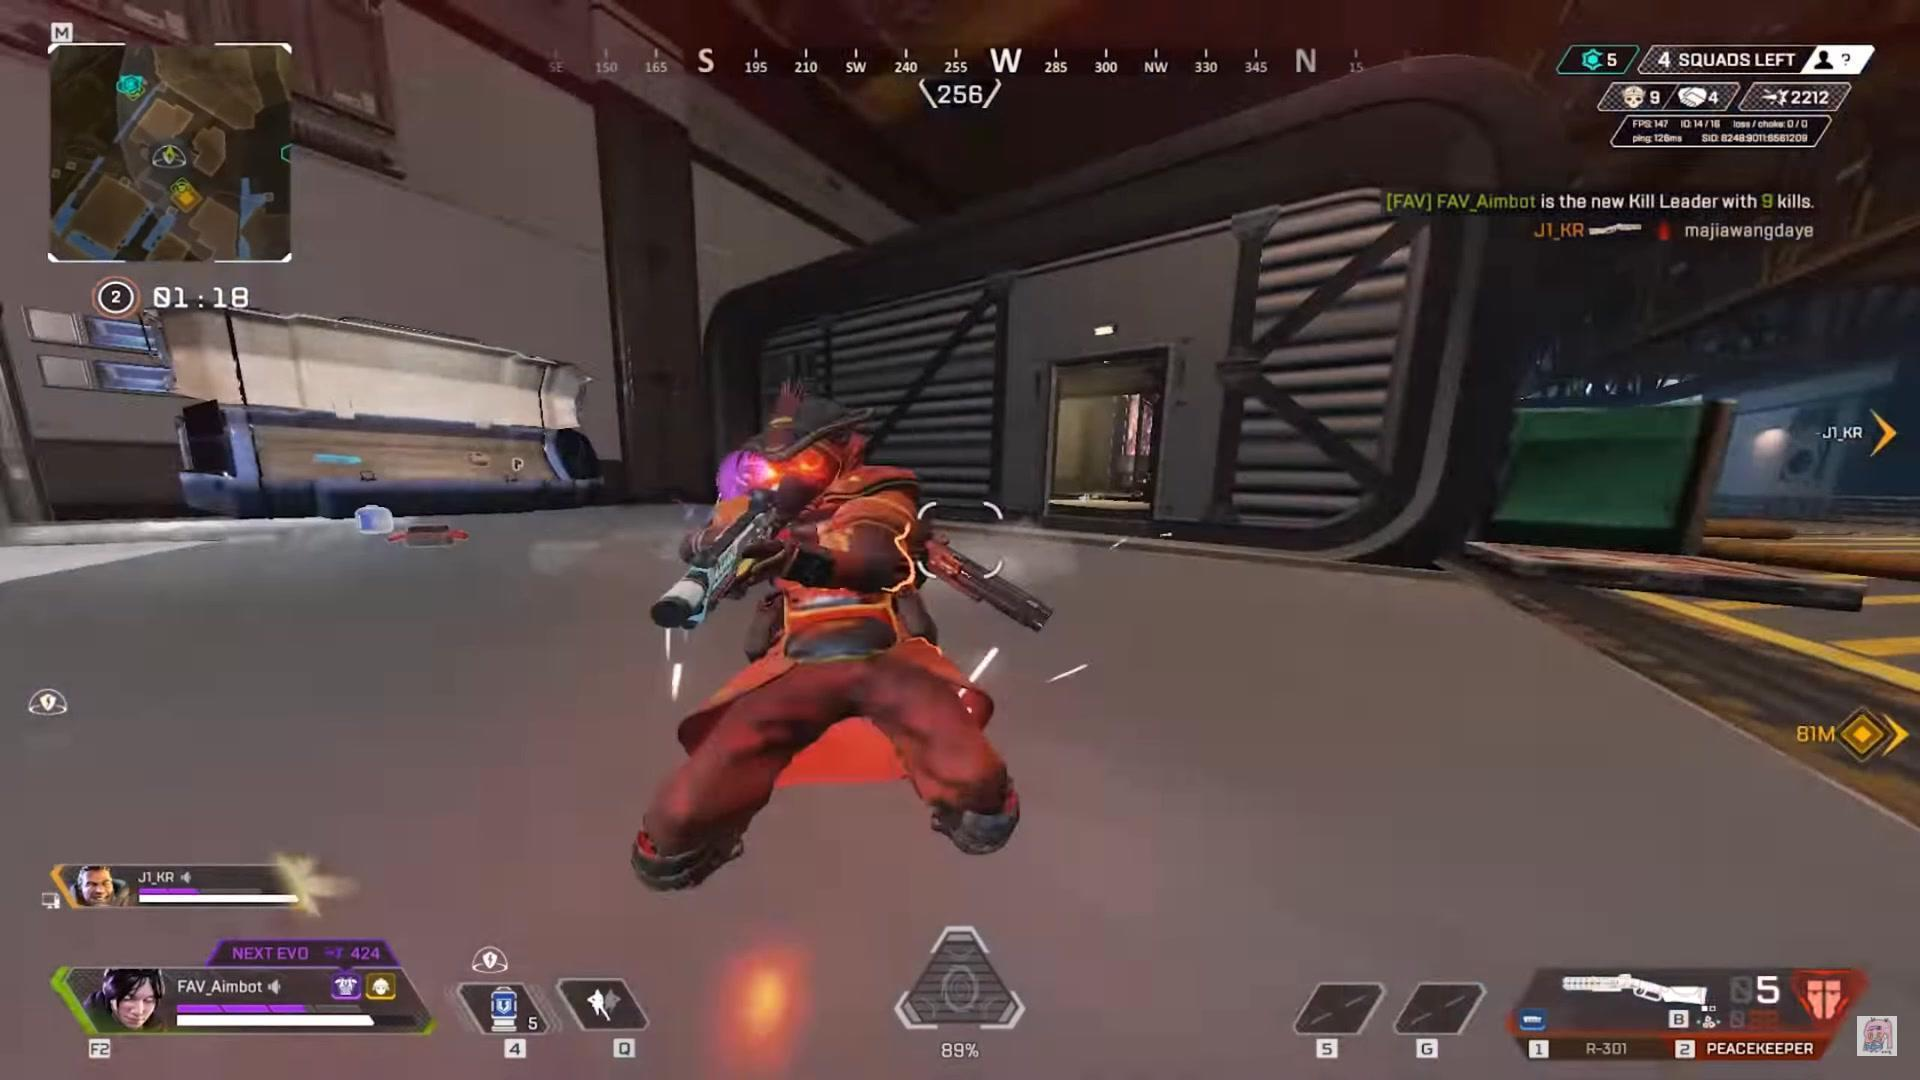avatar: (627, 395, 1024, 899)
